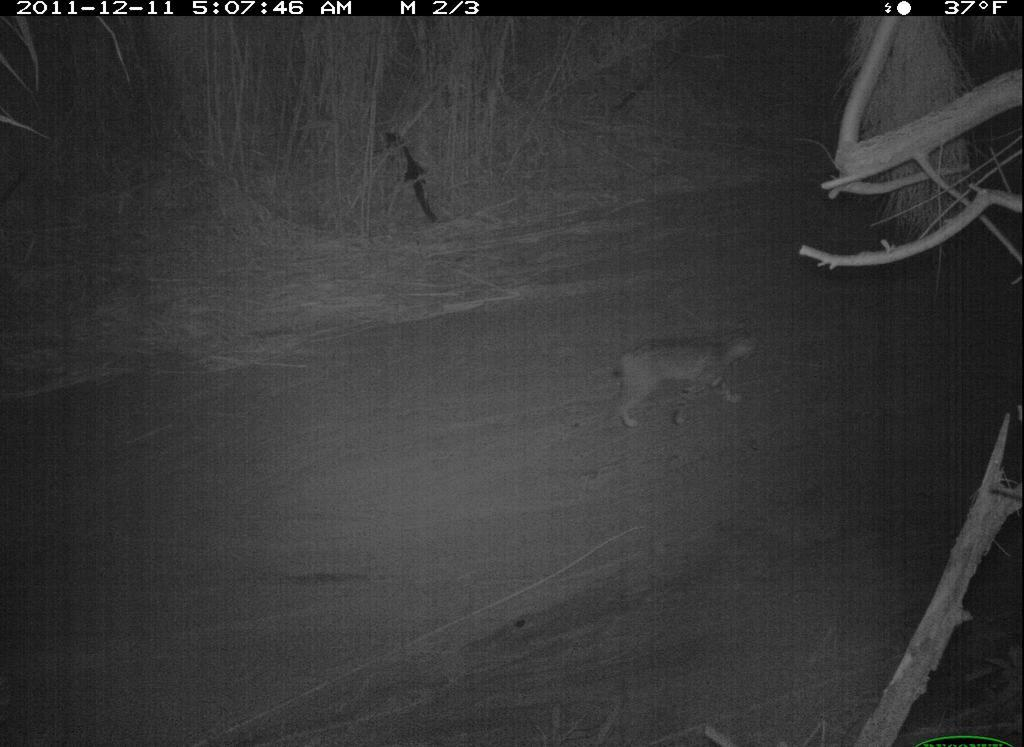bobcat: (598, 312, 765, 433)
